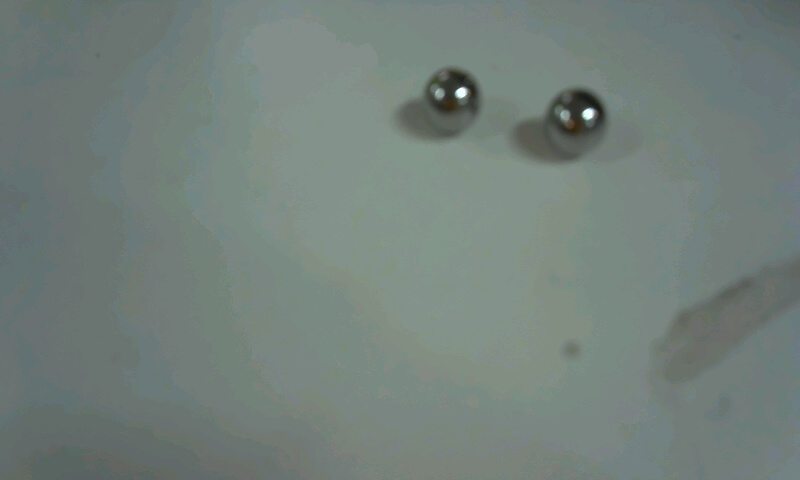steelball: (531, 78, 630, 192), (409, 55, 495, 139)
